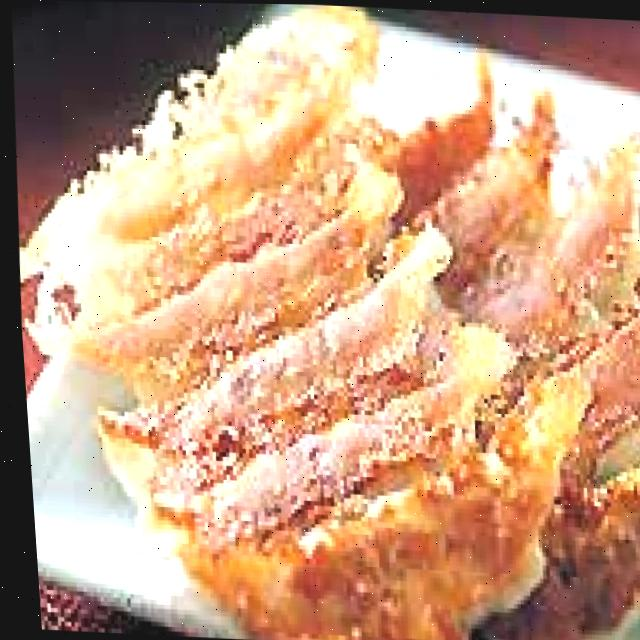带馅早点: (16, 25, 640, 640)
